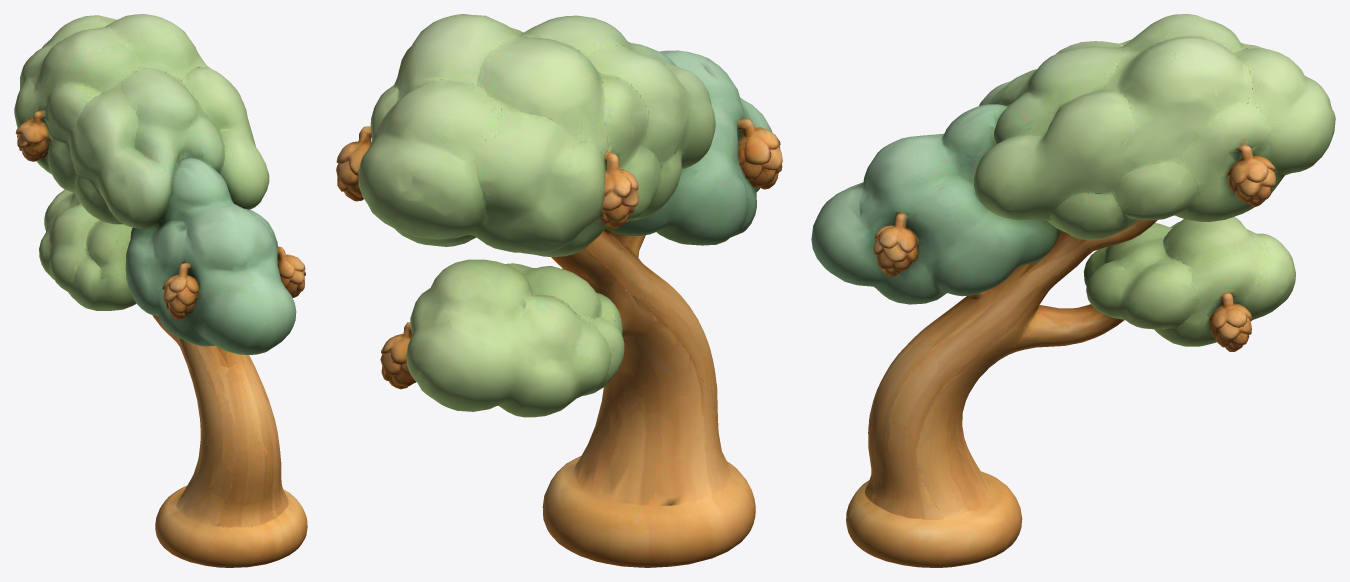
3 views of the same model, side by side, from view 1: azimuth 30°, elevation 25°; view 2: azimuth 150°, elevation 25°; view 3: azimuth 270°, elevation 25° (orthographic). The views are drawn at different scales.
Visible parts, largest first — view 1: E01-coastal-pine-tree; view 2: E01-coastal-pine-tree; view 3: E01-coastal-pine-tree.
Part boxes in pixels (left/top/right/bottom): E01-coastal-pine-tree: left=14, top=14, right=307, bottom=567; E01-coastal-pine-tree: left=336, top=14, right=782, bottom=567; E01-coastal-pine-tree: left=811, top=14, right=1335, bottom=567.
Size of the model in its own units: 2.1 by 4.6 by 4.33.
Materials: 1 (1 with a texture image).
